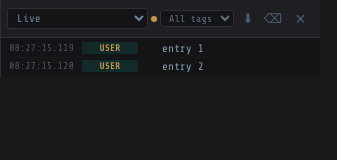
Test: clear live log › clears all entries when clear button is clicked
Click the button titled "Clear live log" at (273, 18), box [262, 8, 284, 30]
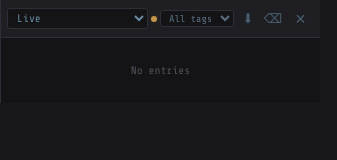
Expected: the text "No entries" is shown, [131, 64, 190, 77]
